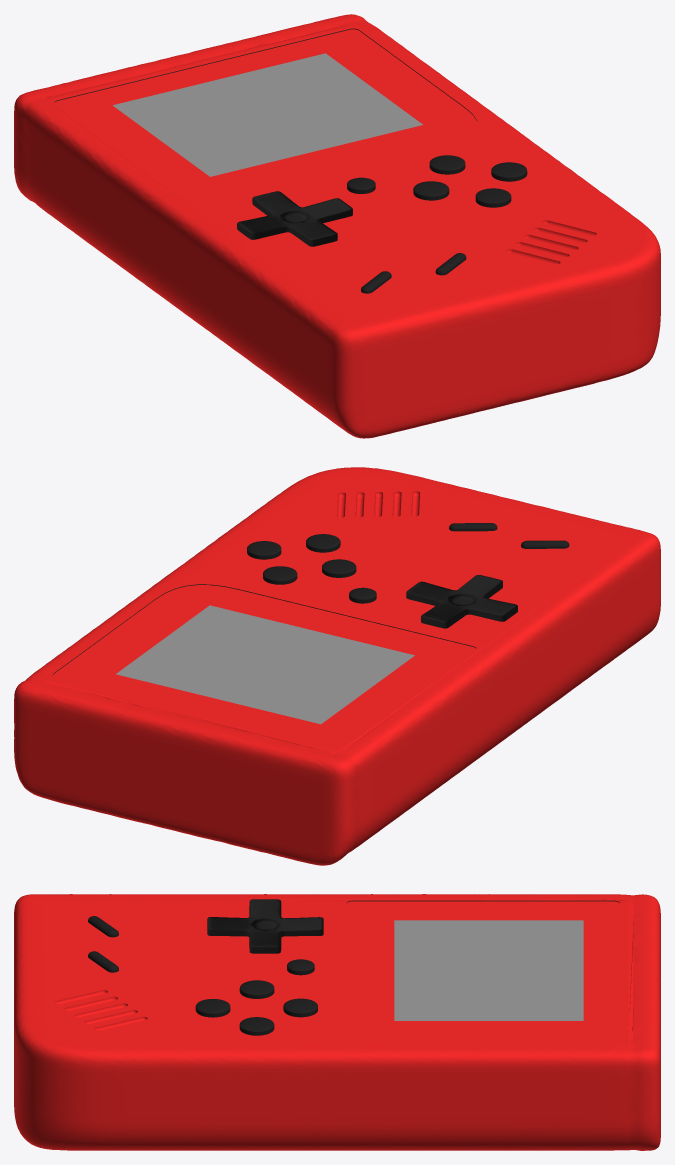
3 views of the same model, one above another, from view 1: azimuth 30°, elevation 25°; view 2: azimuth 150°, elevation 25°; view 3: azimuth 270°, elevation 25° (orthographic). The views are drawn at different scales.
Parts seen in each view (by area): view 1: Box005, Object002, Sphere002; view 2: Box005, Object002, Sphere002; view 3: Box005, Object002, Sphere002, Object001.
Part boxes in pixels (x1,y1,x2,y2): Box005: [14, 14, 660, 438]; Object002: [113, 53, 422, 176]; Sphere002: [237, 155, 527, 293]; Box005: [14, 467, 660, 865]; Object002: [116, 605, 414, 724]; Sphere002: [247, 523, 569, 628]; Box005: [14, 894, 660, 1150]; Object002: [394, 920, 583, 1020]; Sphere002: [88, 899, 323, 1035]; Object001: [347, 900, 619, 902].
Size of the model in its own units: 124 by 40.32 by 205.
